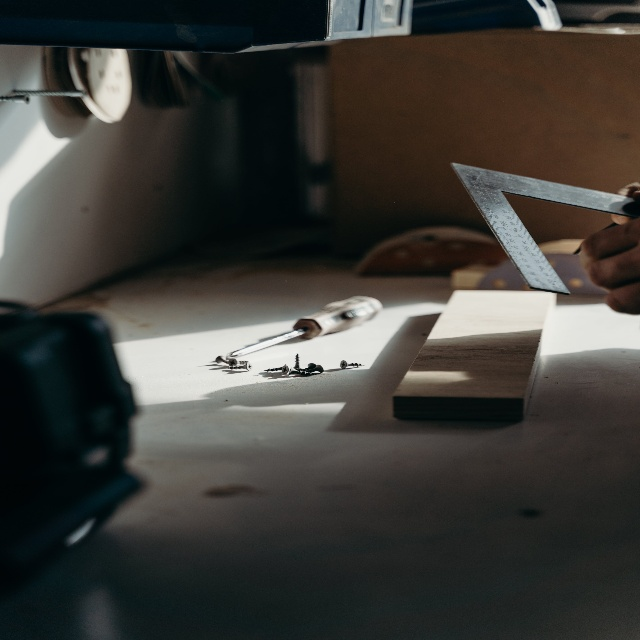Sin_guantes: (578, 214, 640, 315)
